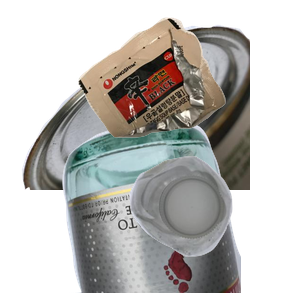glass: (60, 120, 300, 300)
metal: (19, 22, 259, 202)
plastic: (127, 154, 300, 300)
trash: (76, 15, 300, 145)
